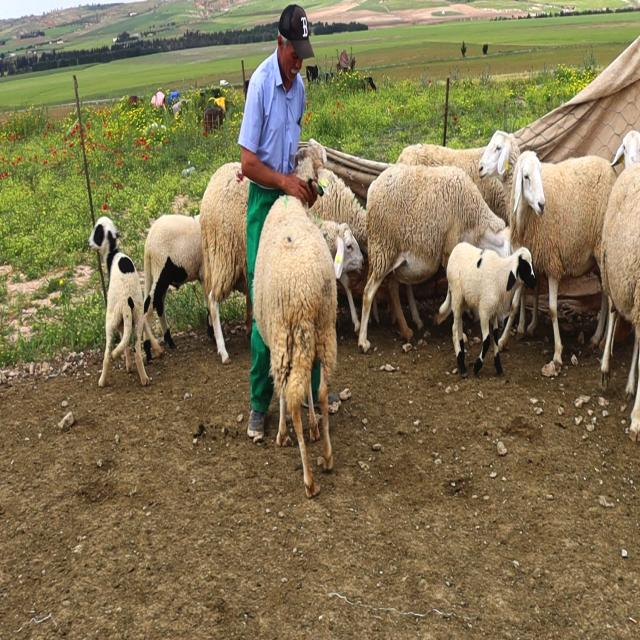Score_5: (254, 199, 337, 497)
